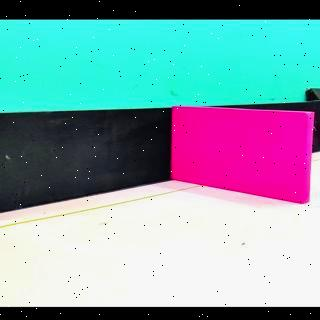xparking: (180, 118, 308, 202)
